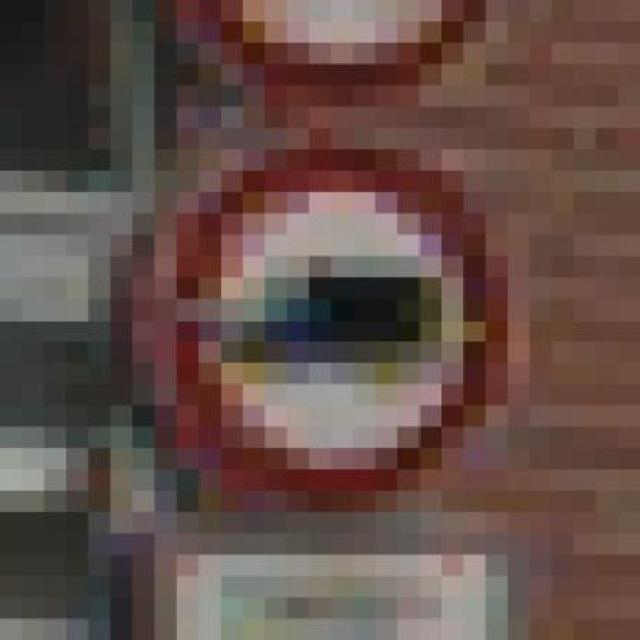Truck traffic is prohibited: (88, 128, 530, 534)
